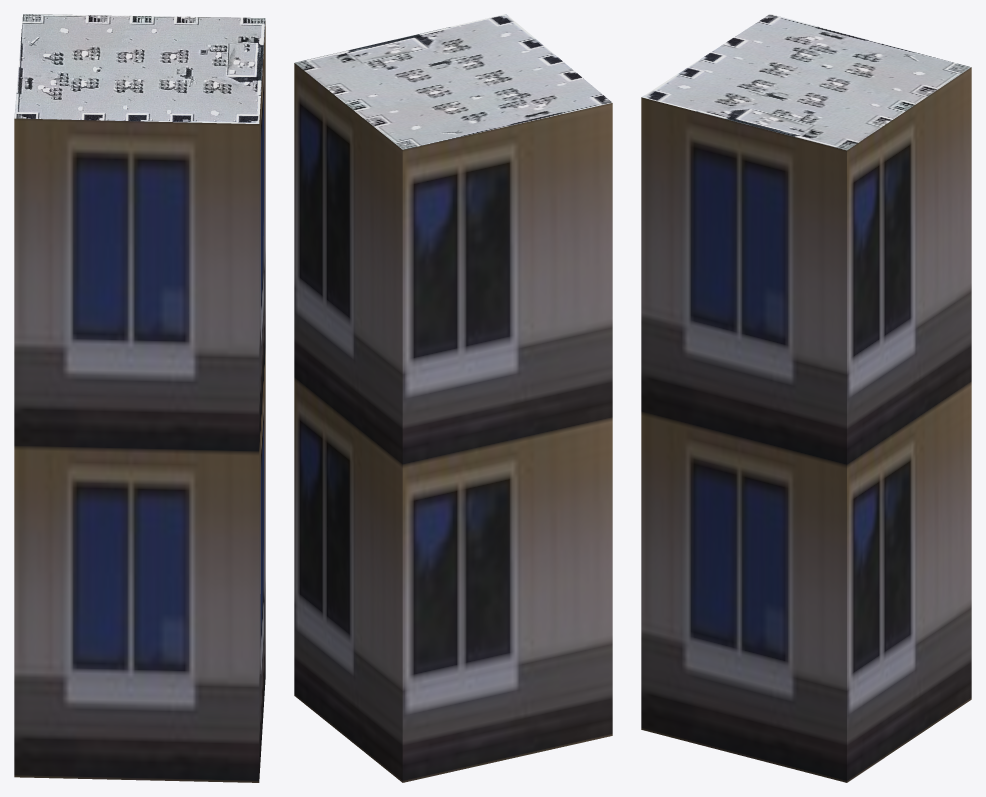
The model's file is ResTex__4849.fbx.
3 renders of one model, left to right at view 1: azimuth 30°, elevation 25°; view 2: azimuth 150°, elevation 25°; view 3: azimuth 270°, elevation 25°, orthographic. The views are drawn at different scales.
Visible parts, largest first — view 1: CityEngineMaterial_5_m, CityEngineMaterial_4_m; view 2: CityEngineMaterial_5_m, CityEngineMaterial_4_m; view 3: CityEngineMaterial_5_m, CityEngineMaterial_4_m.
Boxes of the visible parts, <box> form: CityEngineMaterial_5_m: <box>14,21,265,782</box>; CityEngineMaterial_4_m: <box>14,14,265,123</box>; CityEngineMaterial_5_m: <box>294,63,612,782</box>; CityEngineMaterial_4_m: <box>294,14,612,149</box>; CityEngineMaterial_5_m: <box>641,67,971,782</box>; CityEngineMaterial_4_m: <box>642,14,970,150</box>.
Size of the model in its own units: 2.78 by 6 by 2.84.
Materials: 2 (2 with a texture image).
